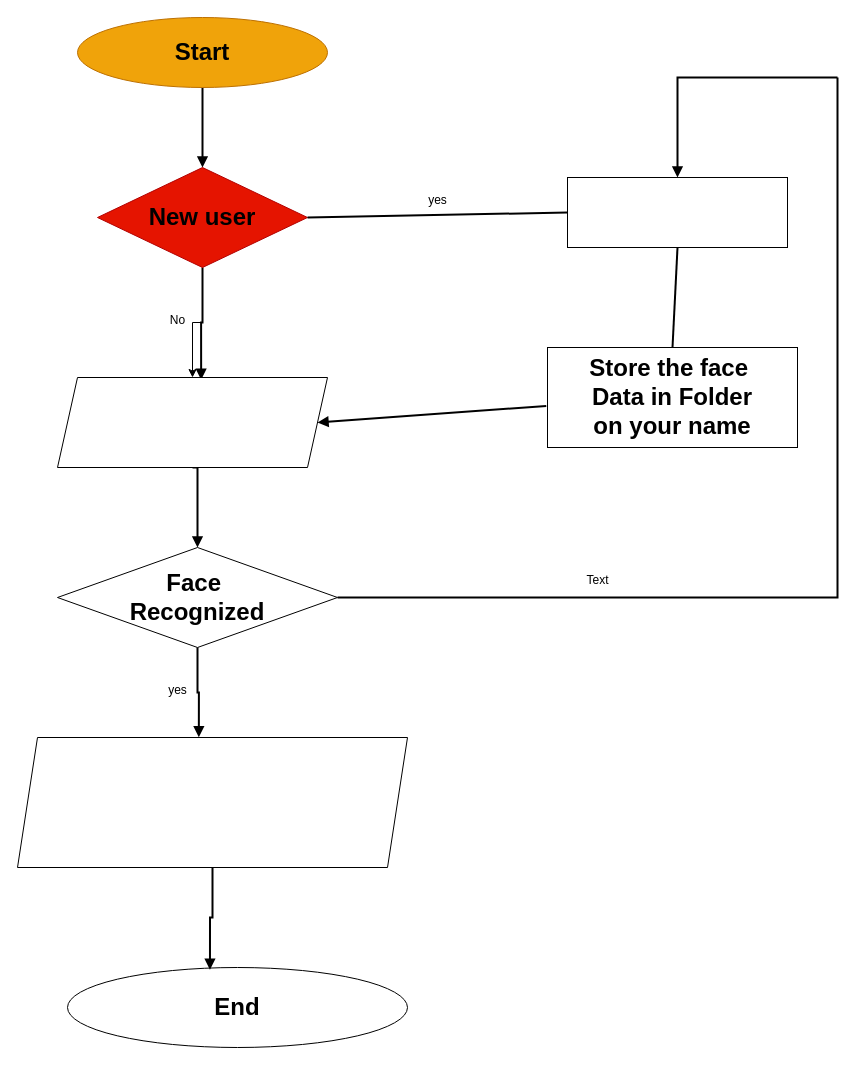
Image size: 864x1065. Some labels were removed from this diagram. The centre of each missing label's shape, as x and y in pixels:
Give your photograph: pixel 677 212
Recognize the face: pixel 192 422
Stored in CSV file with Registration Number & Data .Time of Entry: pixel 212 802
